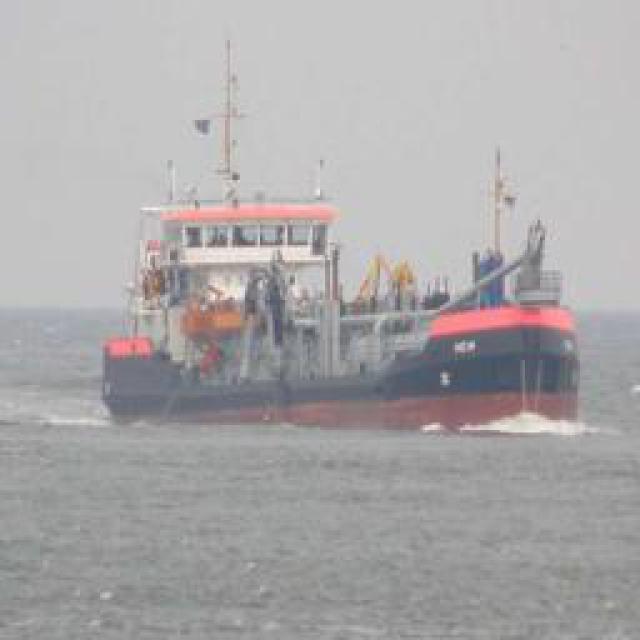Ship: (99, 36, 592, 436)
